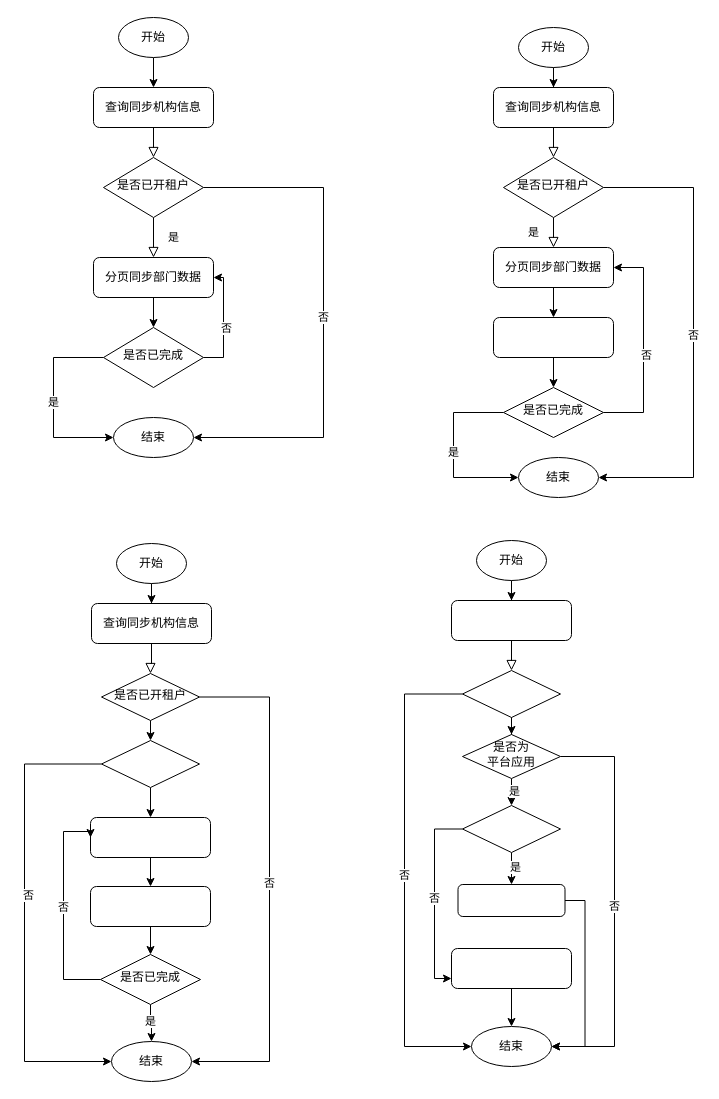
The diagram is 719 pixels wide and 1099 high, and some of its shapes have lost their labels. Each missing label, with the centre of its shape:
"mq发送通知消息" belongs at point (511, 968).
"分页同步年级、班级数据" belongs at point (150, 837).
"分页同步班级学生和家长用户数据" belongs at point (150, 906).
"分页同步部门用户" belongs at point (553, 337).
"安装应用处理" belongs at point (511, 900).
"数据变更接收" belongs at point (511, 620).
"数据解密 是否成功" belongs at point (511, 694).
"是否安装应用" belongs at point (511, 828).
"是否是学校机构" belongs at point (150, 764).
